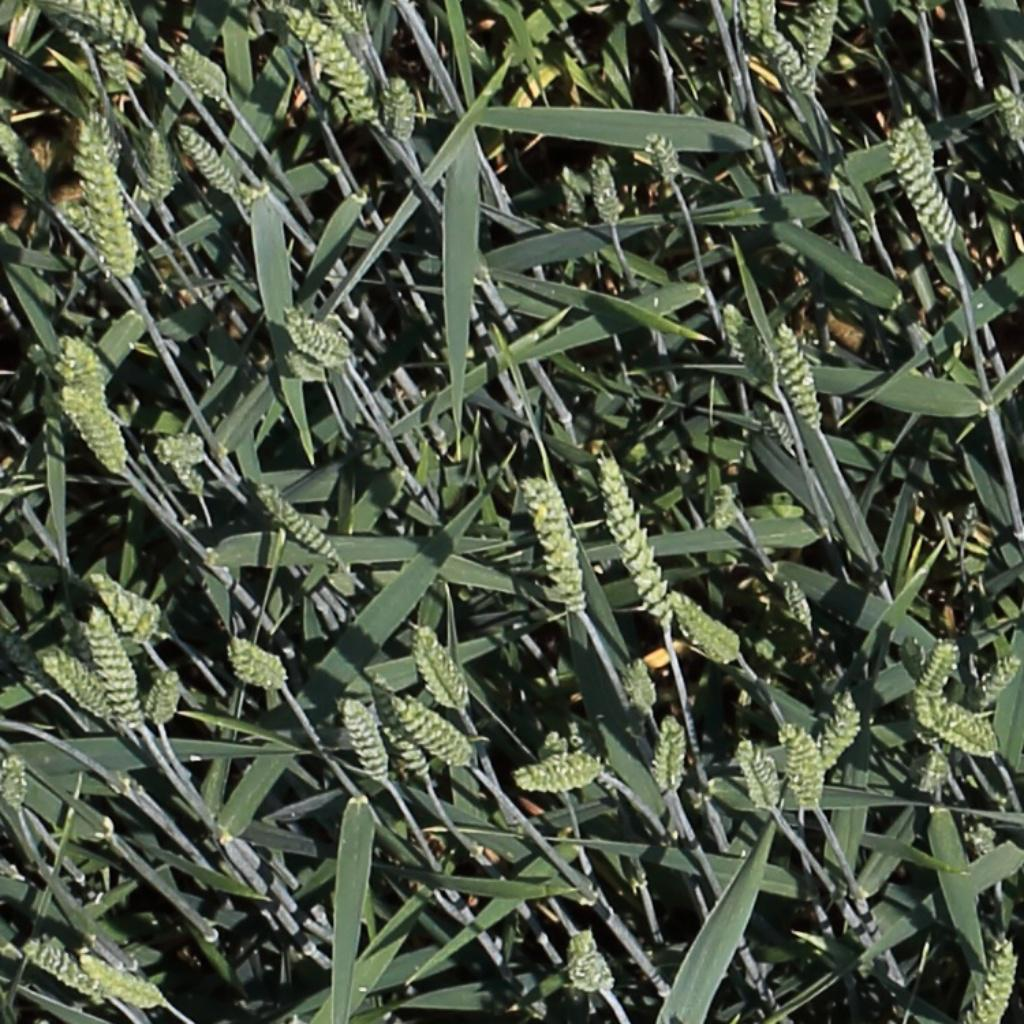0-0: (596, 450, 674, 632), (275, 4, 382, 126), (75, 105, 143, 279), (915, 651, 1024, 755), (522, 473, 591, 617), (373, 672, 475, 768), (890, 118, 960, 248), (253, 483, 346, 566), (86, 603, 144, 735), (37, 640, 122, 724), (371, 681, 434, 790), (58, 382, 129, 477), (87, 572, 164, 651), (669, 586, 745, 666), (775, 319, 827, 434), (720, 299, 783, 391), (173, 118, 243, 197), (337, 693, 391, 791), (412, 623, 468, 716), (20, 930, 100, 993), (513, 747, 606, 798), (77, 954, 163, 1008), (760, 25, 821, 101), (0, 109, 53, 193), (58, 329, 111, 410), (972, 933, 1018, 1024), (283, 305, 352, 364), (222, 636, 292, 694), (816, 688, 862, 775), (0, 622, 53, 696), (737, 737, 780, 819), (157, 439, 210, 503), (173, 42, 232, 99), (789, 722, 824, 811), (918, 633, 961, 705), (651, 712, 688, 795), (755, 397, 805, 458), (780, 573, 823, 640), (955, 810, 1008, 863), (85, 21, 130, 83), (84, 102, 125, 169), (780, 722, 816, 798), (586, 151, 620, 231), (572, 925, 608, 999), (903, 111, 943, 177), (644, 124, 685, 188), (805, 0, 842, 69), (991, 77, 1024, 154), (910, 744, 954, 798), (144, 122, 172, 204), (150, 663, 182, 733), (387, 70, 415, 147), (320, 0, 372, 39), (624, 654, 656, 715), (0, 751, 28, 815), (710, 476, 738, 538), (283, 348, 329, 383), (744, 0, 779, 46), (46, 9, 82, 46)
